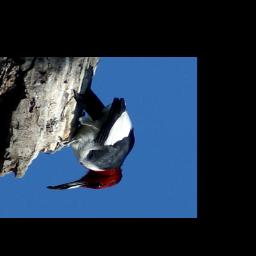Woodpecker: (48, 65, 136, 191)
